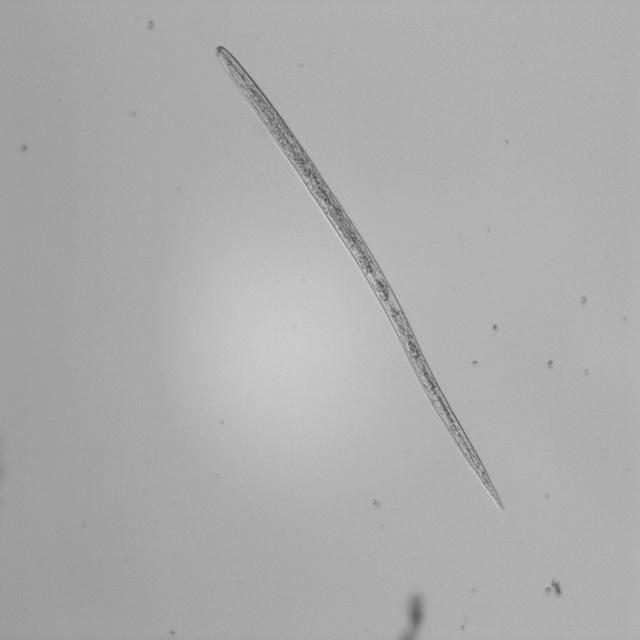Radopholus: (210, 37, 515, 523)
